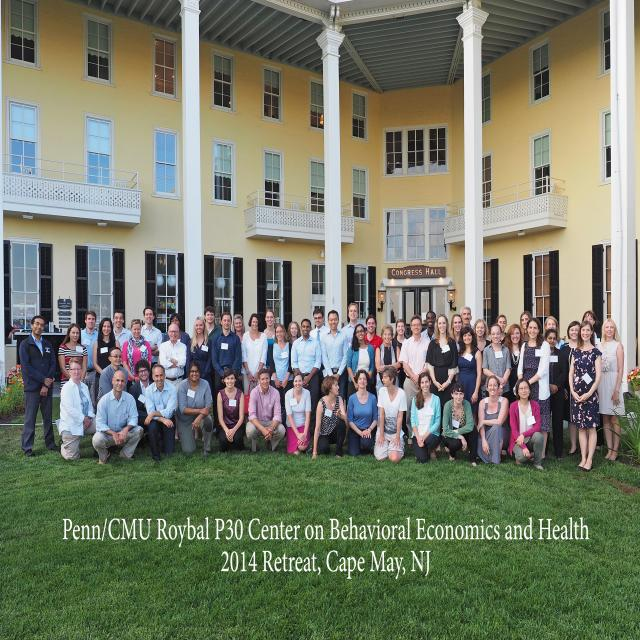body: (17, 313, 63, 458), (568, 319, 603, 473), (91, 368, 145, 466), (423, 313, 460, 453), (516, 316, 551, 463), (397, 313, 431, 447), (57, 356, 100, 461), (595, 317, 626, 462), (289, 317, 323, 443), (211, 311, 243, 441), (560, 321, 589, 457), (177, 359, 214, 458), (244, 367, 286, 454), (372, 364, 408, 465), (508, 377, 546, 471), (442, 380, 481, 471), (158, 323, 188, 441), (345, 322, 374, 444), (144, 362, 178, 462), (476, 374, 513, 465), (311, 375, 347, 462), (268, 323, 295, 439), (240, 313, 268, 424), (409, 371, 442, 465), (374, 323, 402, 431), (455, 325, 484, 429), (346, 368, 379, 458), (544, 328, 566, 461), (480, 323, 512, 412), (92, 317, 120, 416), (320, 309, 348, 406), (284, 370, 314, 458), (216, 367, 246, 454), (364, 314, 384, 442), (128, 359, 156, 450), (93, 346, 129, 416), (121, 318, 152, 394), (185, 316, 213, 396), (58, 322, 88, 396), (308, 308, 330, 401), (80, 310, 99, 416), (162, 313, 191, 380), (503, 323, 525, 408), (140, 306, 164, 383), (472, 319, 493, 400), (0, 303, 17, 403), (390, 318, 410, 388), (340, 302, 368, 347), (232, 313, 247, 396), (112, 310, 133, 368), (262, 309, 276, 378), (542, 315, 565, 350), (582, 310, 602, 345), (449, 313, 465, 356), (203, 306, 222, 341), (488, 314, 508, 345), (420, 310, 438, 342), (518, 311, 533, 344), (459, 306, 475, 330), (287, 321, 302, 344)
